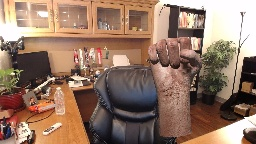Pugno: (146, 35, 204, 94)
